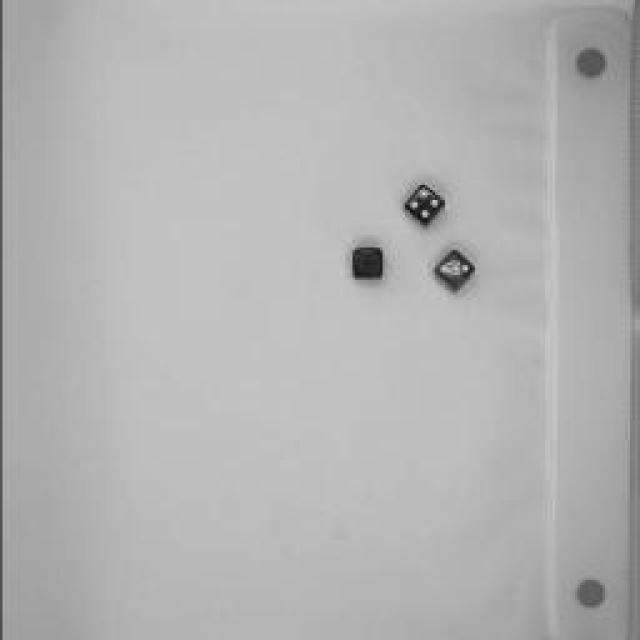dice_3: (424, 242, 481, 298)
dice_4: (399, 180, 451, 230), (341, 242, 391, 288)
